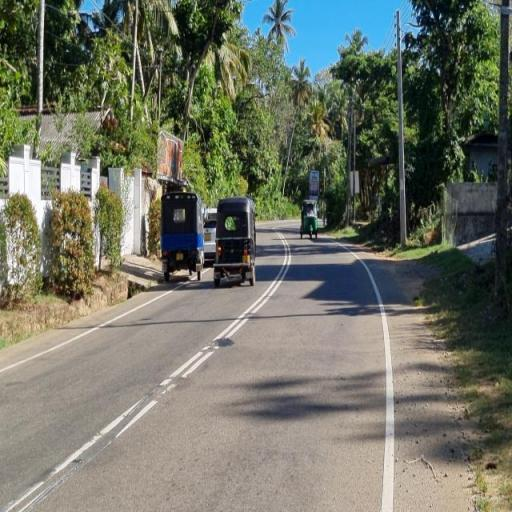double_white_line: (160, 232, 293, 396)
